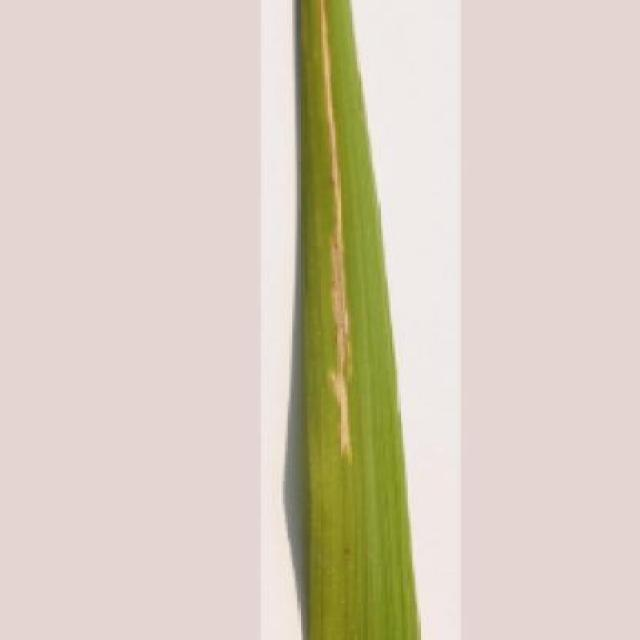Brown_Spot: (290, 0, 422, 640)
